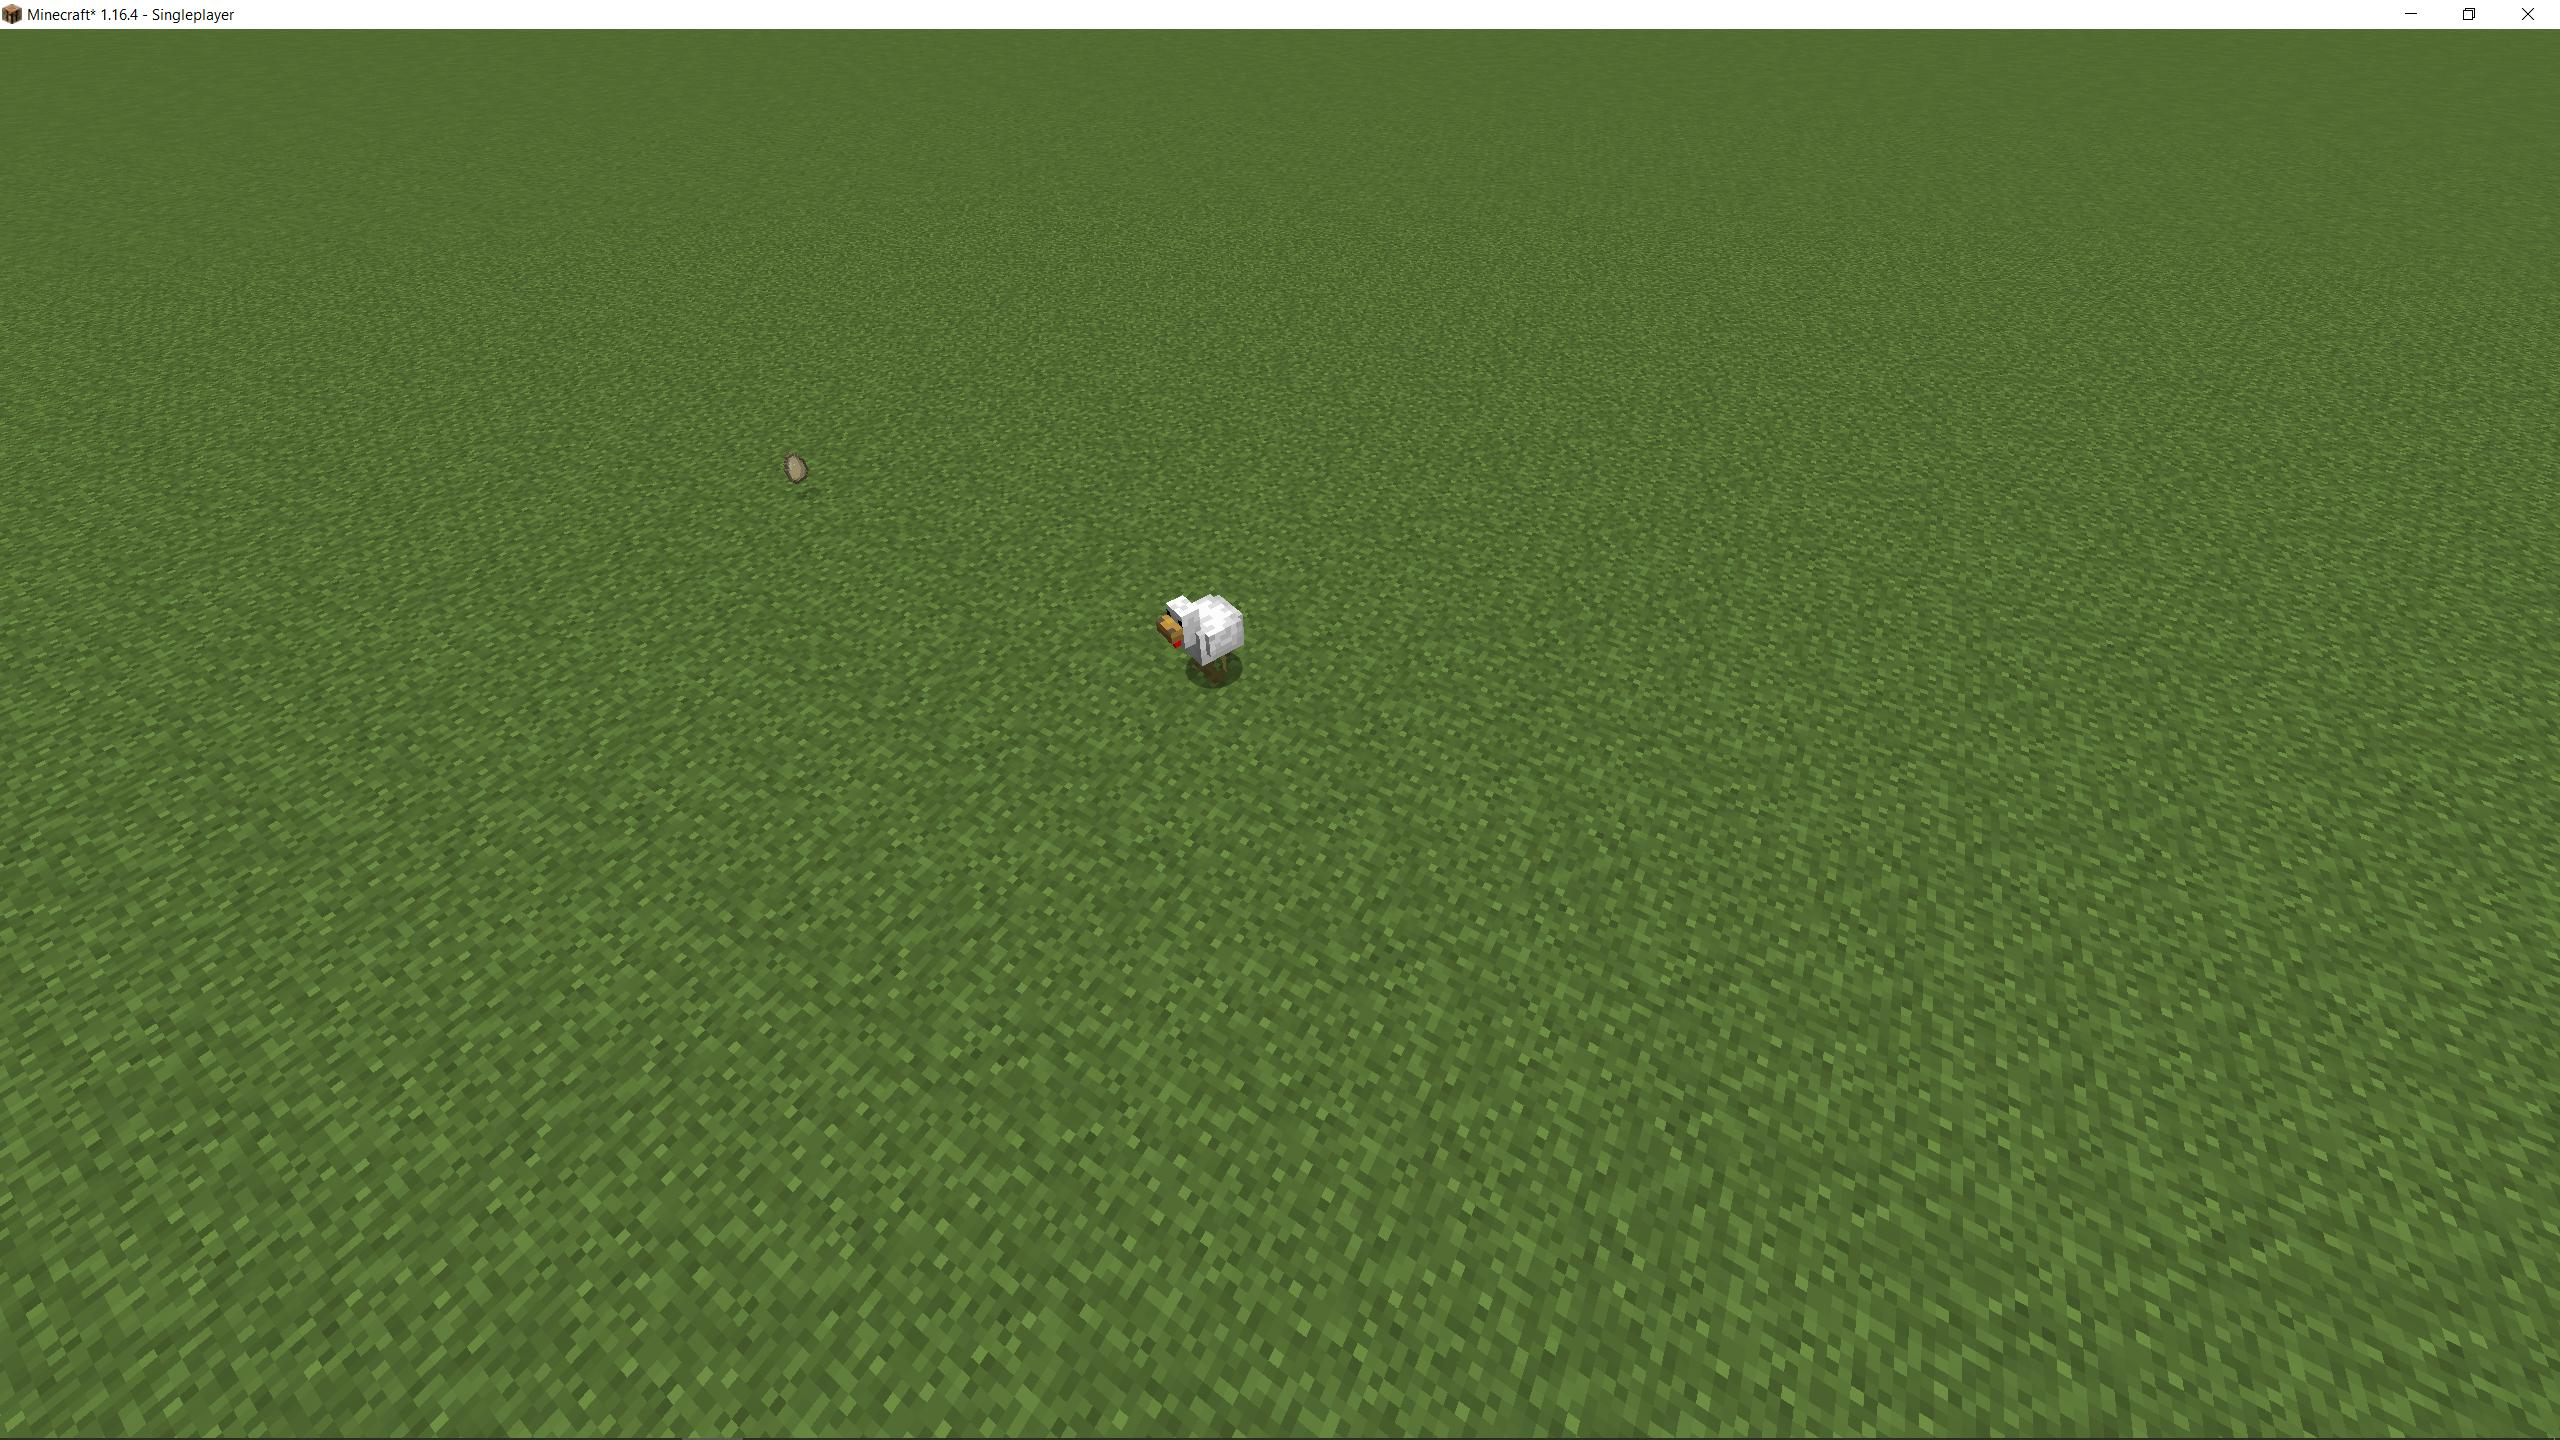chicken: (1153, 589, 1248, 693)
